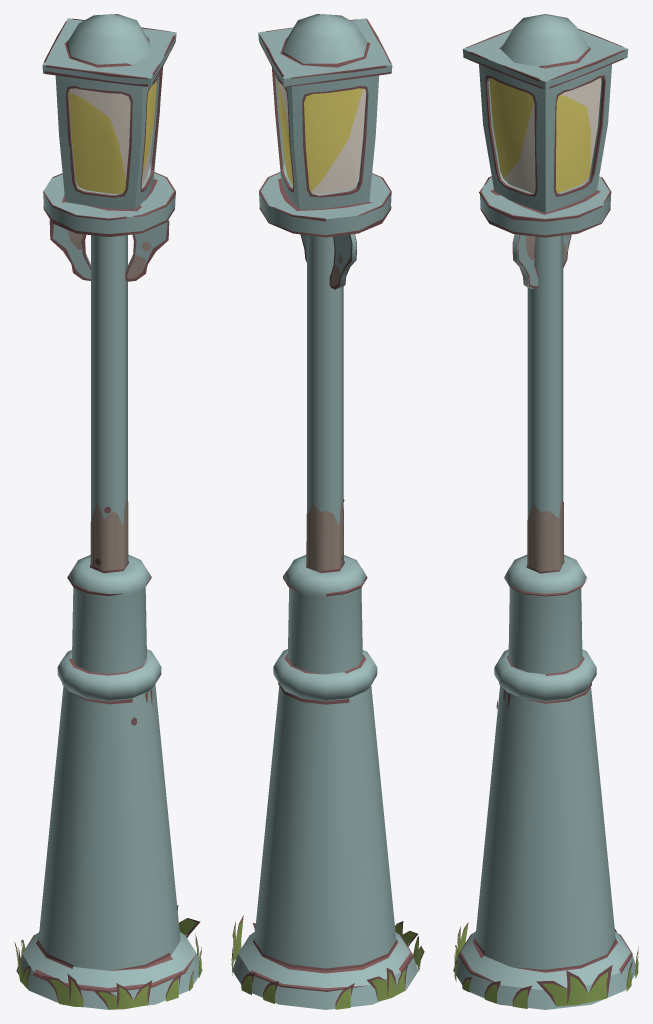
Rendered from Mesh_Home_B_Idyll_20_SM.fbx.
3 renders of one model, left to right at view 1: azimuth 30°, elevation 25°; view 2: azimuth 150°, elevation 25°; view 3: azimuth 270°, elevation 25°, orthographic.
Visible parts, largest first — view 1: Mesh_Home_B_Idyll_20; view 2: Mesh_Home_B_Idyll_20; view 3: Mesh_Home_B_Idyll_20.
Part boxes in pixels (x1,y1,x2,y2): Mesh_Home_B_Idyll_20: (14, 14, 202, 1009); Mesh_Home_B_Idyll_20: (231, 14, 424, 1009); Mesh_Home_B_Idyll_20: (453, 14, 638, 1009).
Size of the model in its own units: 36.91 by 199 by 35.12.
1 material, 1 textured.
